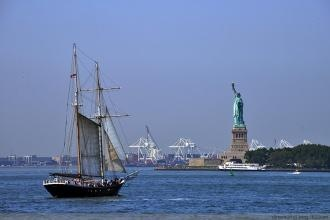fanchuan: (41, 37, 147, 197)
otherboat: (217, 157, 266, 171)
